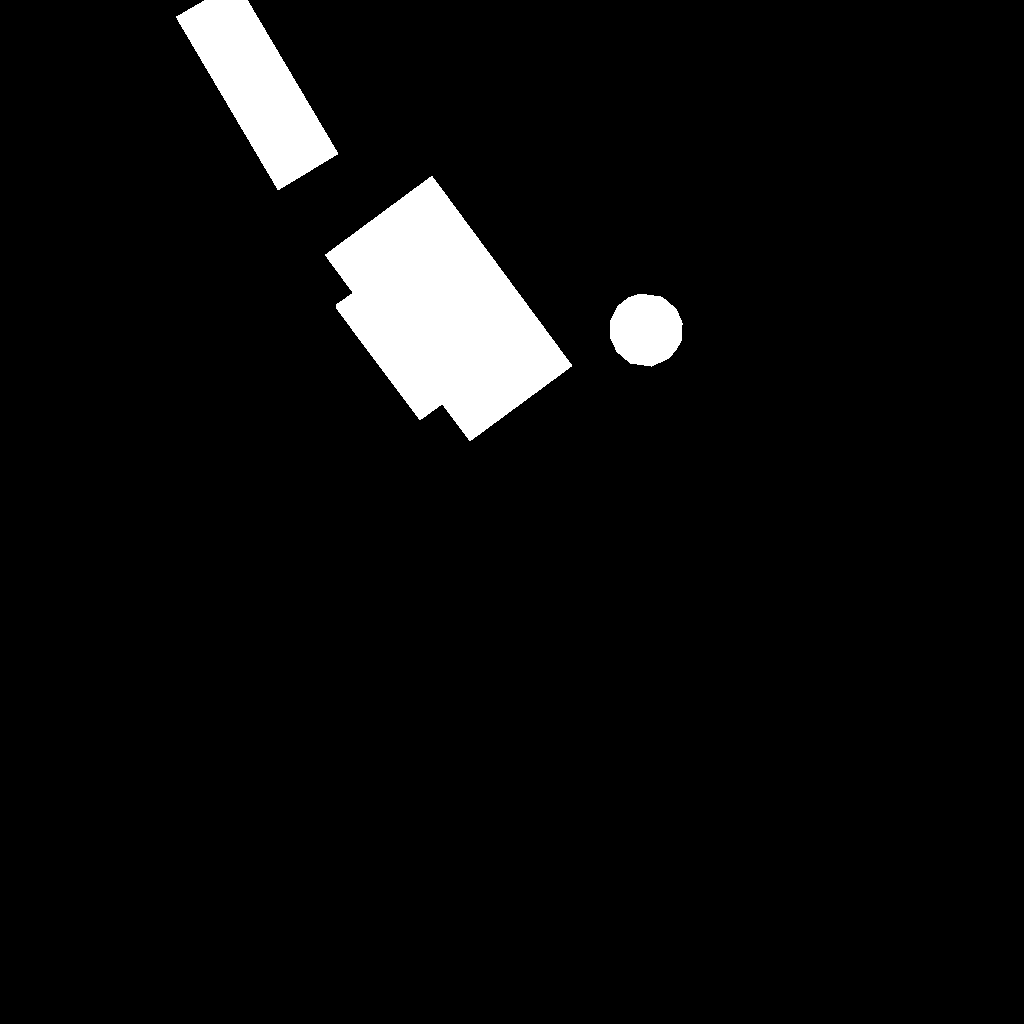building: (325, 176, 573, 442), (176, 0, 339, 191), (610, 294, 683, 367)
